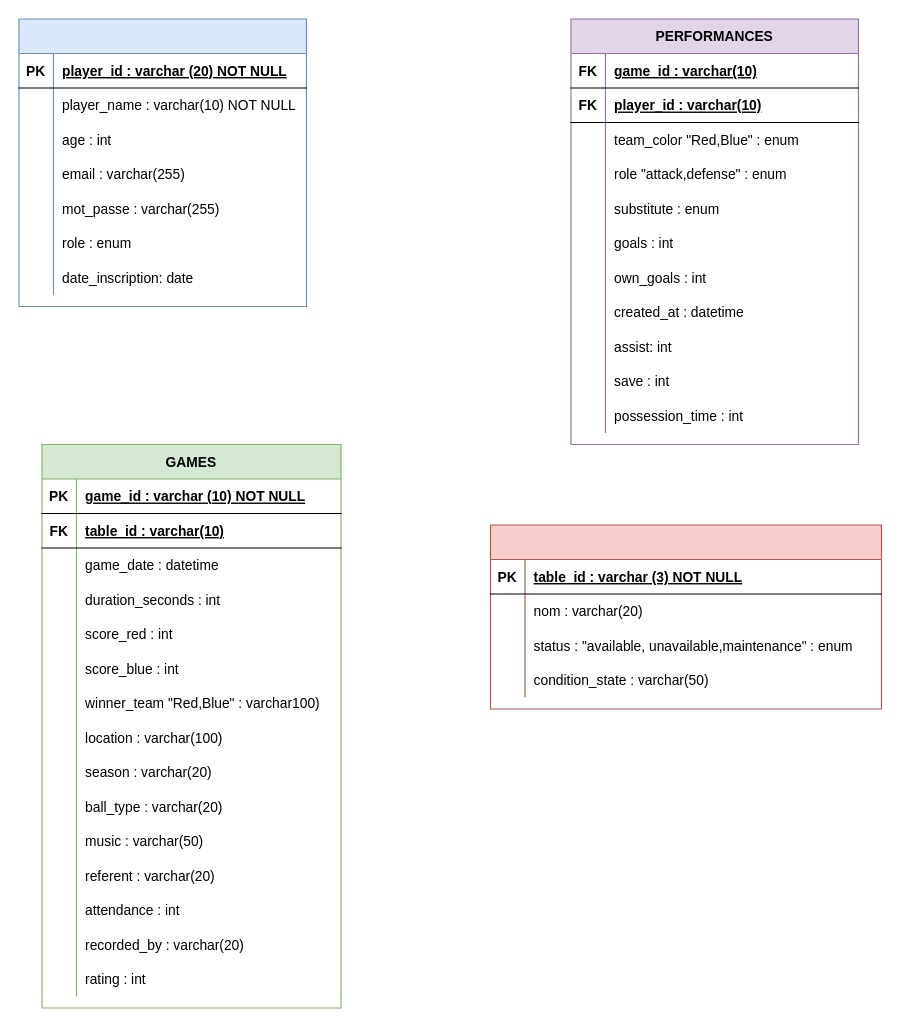
Some shapes in this 900 by 1027 pixel diagram are drawn without their labels. Each missing label, with the box of its shape:
BABYFOOTS: (489, 524, 881, 709)
PLAYERS: (18, 18, 306, 306)
